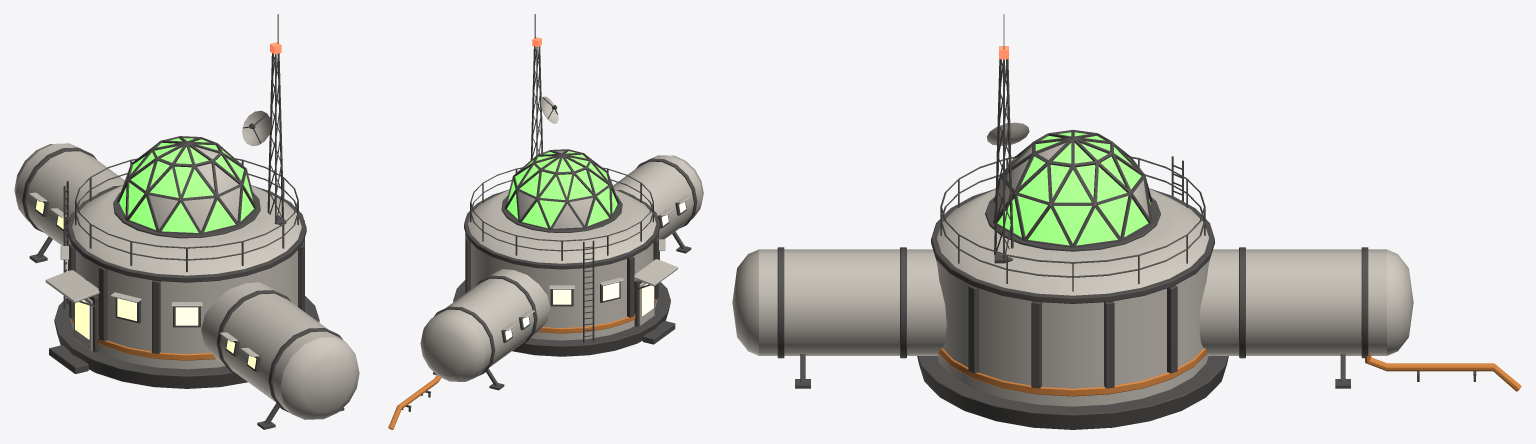
The model's file is hab_hub.glb.
3 views of the same model, side by side, from view 1: azimuth 30°, elevation 25°; view 2: azimuth 150°, elevation 25°; view 3: azimuth 270°, elevation 25° (orthographic). The views are drawn at different scales.
Visible parts, largest first — view 1: hab_hub; view 2: hab_hub; view 3: hab_hub.
Part boxes in pixels (box(x1,y1,x2,y2)): hab_hub: box(14, 14, 359, 429); hab_hub: box(388, 14, 703, 429); hab_hub: box(732, 14, 1521, 429).
Size of the model in its own units: 10.56 by 14.09 by 25.14.
